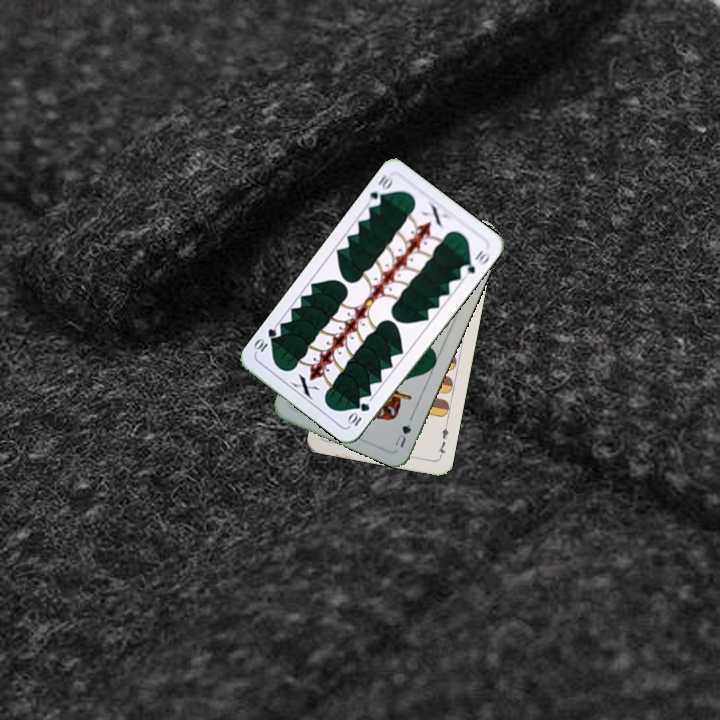E7: (434, 420, 451, 460)
G10: (363, 170, 396, 210), (344, 399, 372, 429)
GU: (391, 419, 414, 450)
